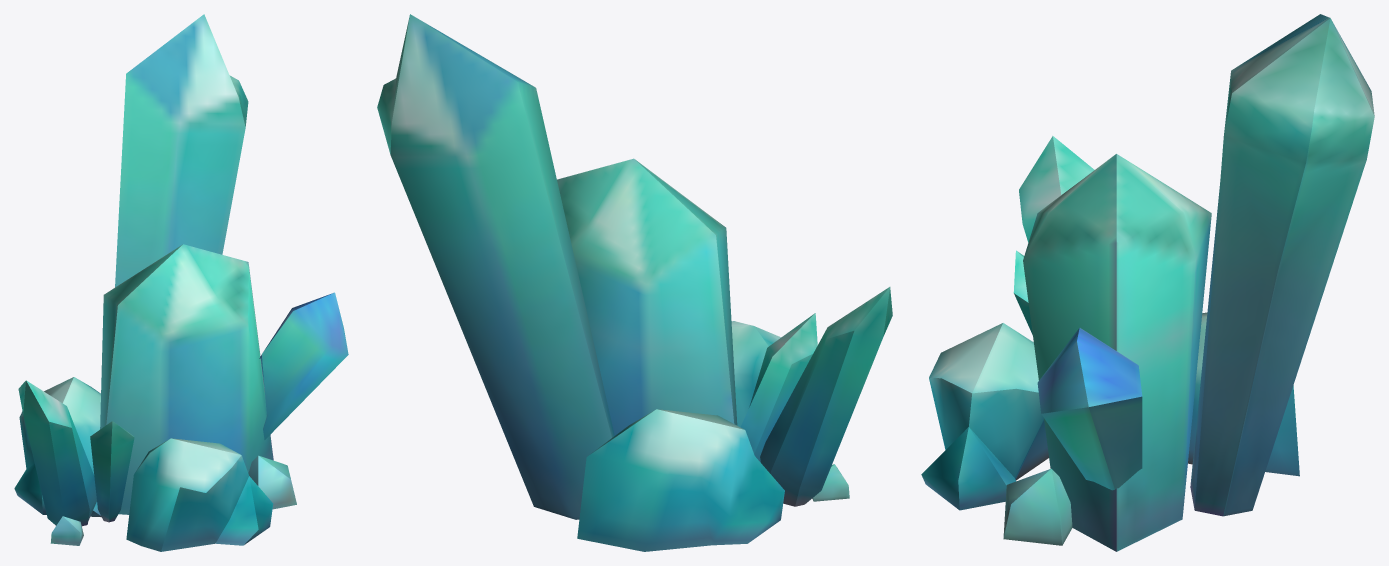
File: shuijing_01.FBX
3 renders of one model, left to right at view 1: azimuth 30°, elevation 25°; view 2: azimuth 150°, elevation 25°; view 3: azimuth 270°, elevation 25°, orthographic. The views are drawn at different scales.
Parts seen in each view (by area): view 1: shuijing_01; view 2: shuijing_01; view 3: shuijing_01.
Boxes of the visible parts, x1,y1,x2,y2 form: shuijing_01: (14, 14, 348, 551); shuijing_01: (377, 14, 892, 551); shuijing_01: (921, 14, 1374, 551).
Size of the model in its own units: 0.7503 by 0.8582 by 0.654.
